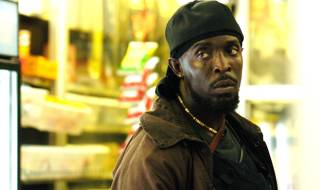without_mask: (183, 37, 245, 105)
